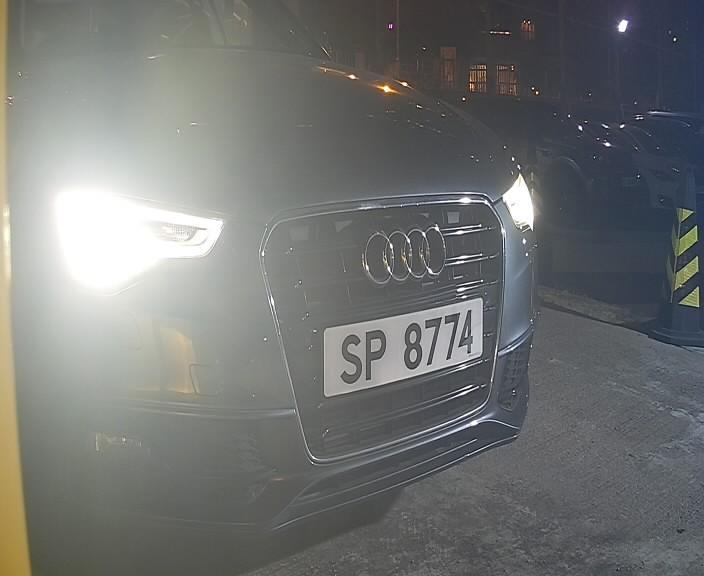License Plate: (324, 286, 485, 402)
